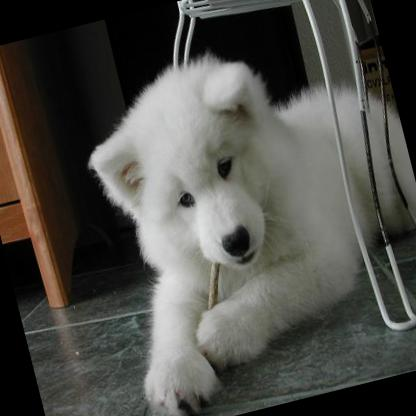Samoyed: (65, 11, 416, 416)
